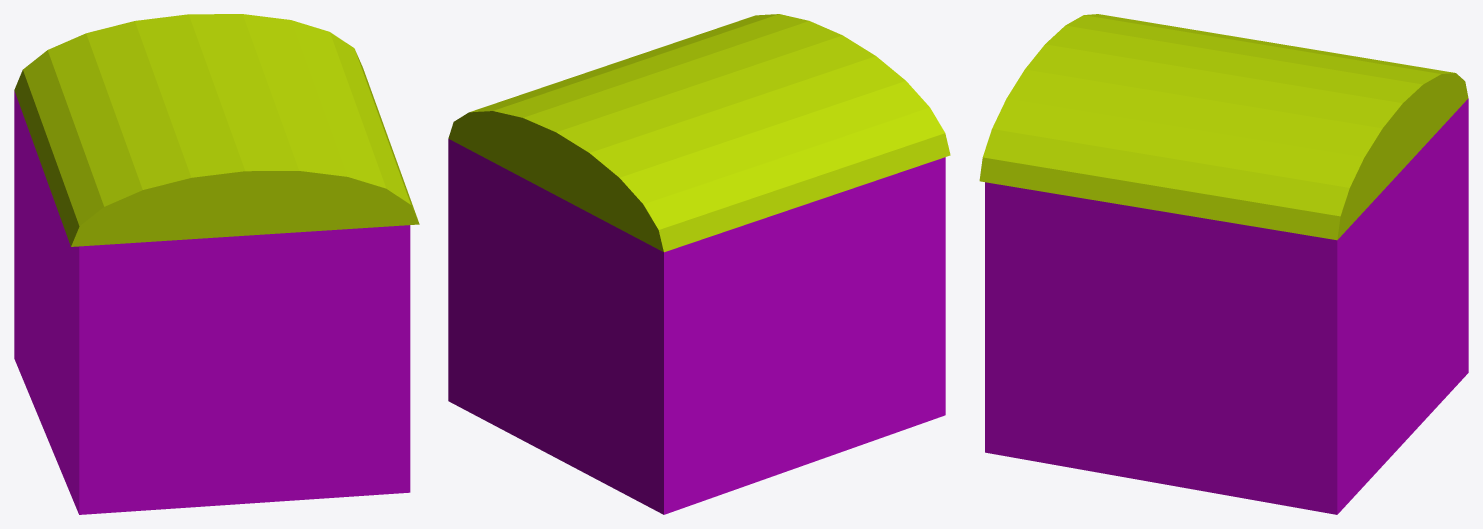
The model's file is bgj_91.glb.
The picture shows the model from 3 angles, left to right: view 1: azimuth 30°, elevation 25°; view 2: azimuth 150°, elevation 25°; view 3: azimuth 270°, elevation 25°; orthographic projection. The views are drawn at different scales.
Visible parts, largest first — view 1: bgj_91; view 2: bgj_91; view 3: bgj_91.
Boxes of the visible parts, x1=… form: bgj_91: x1=14, y1=14, x2=419, y2=514; bgj_91: x1=448, y1=14, x2=950, y2=514; bgj_91: x1=979, y1=14, x2=1468, y2=514.
Size of the model in its own units: 5.88 by 4.64 by 6.04.
